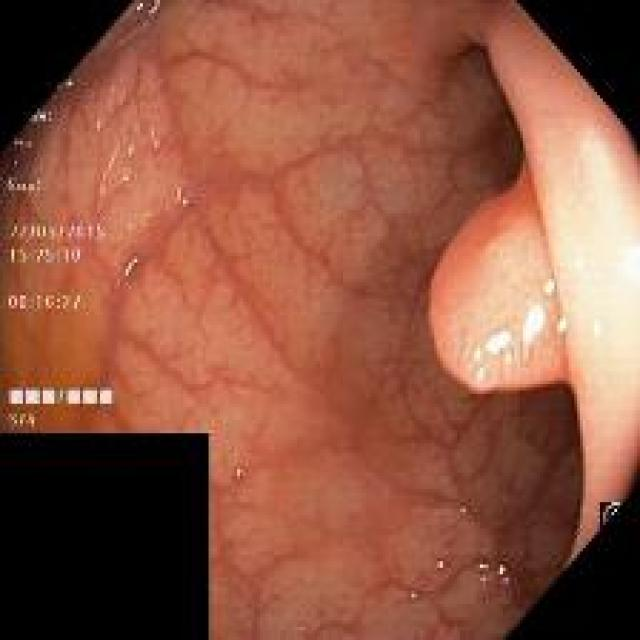Polyps: (429, 168, 566, 391)
